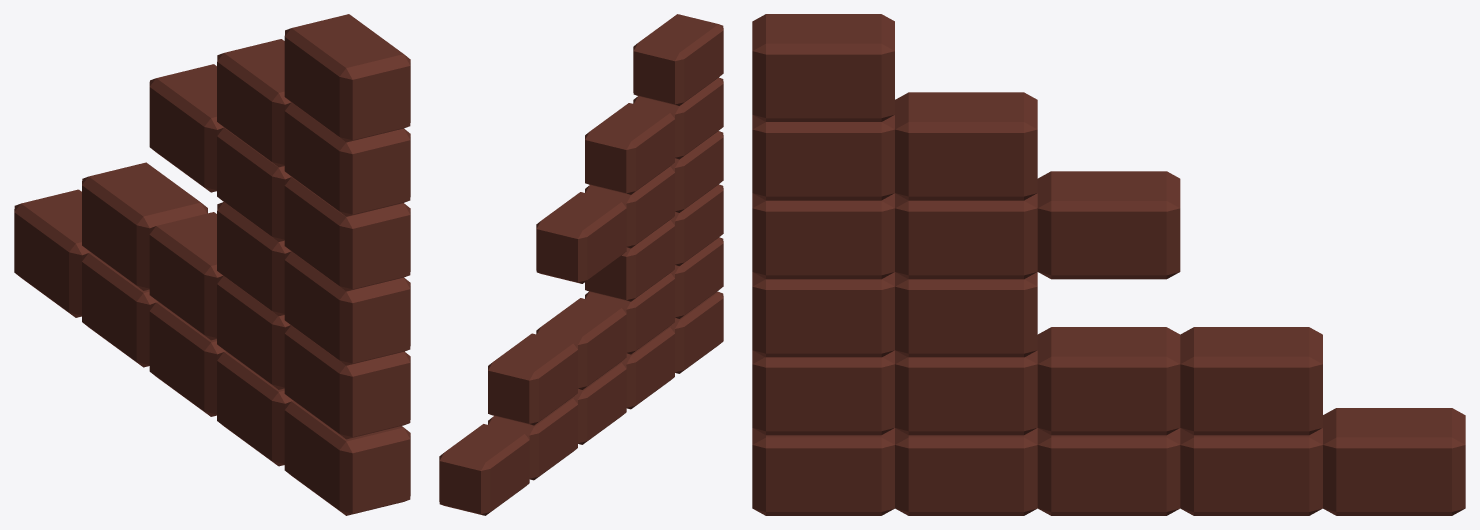
The model's file is Wall_Broken.fbx.
3 renders of one model, left to right at view 1: azimuth 30°, elevation 25°; view 2: azimuth 150°, elevation 25°; view 3: azimuth 270°, elevation 25°, orthographic. The views are drawn at different scales.
Parts seen in each view (by area): view 1: Wall_broken; view 2: Wall_broken; view 3: Wall_broken.
Part boxes in pixels (x1=…): Wall_broken: x1=14, y1=14, x2=410, y2=515; Wall_broken: x1=439, y1=14, x2=723, y2=515; Wall_broken: x1=752, y1=14, x2=1465, y2=515.
Size of the model in its own units: 56.85 by 342 by 468.
